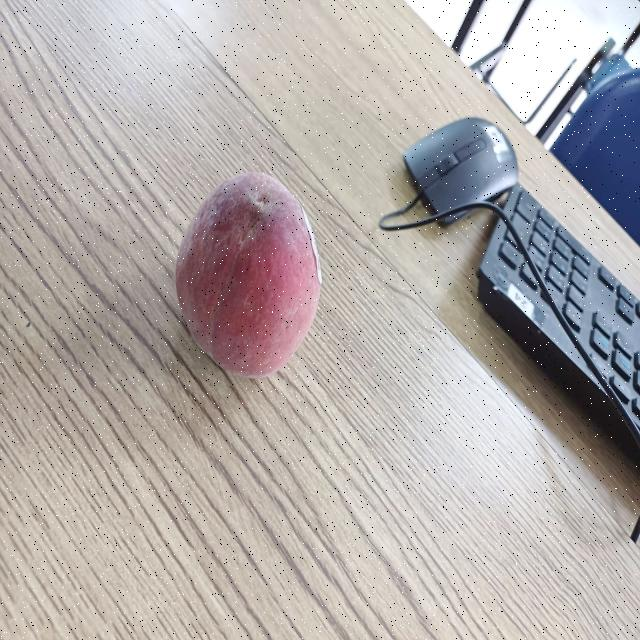Persik: (172, 164, 331, 389)
